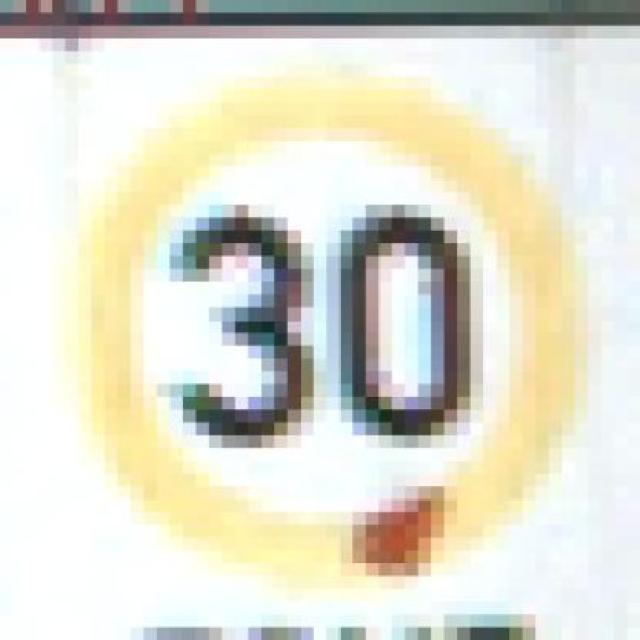Speed Limit 30 KMPh: (39, 77, 613, 589)
